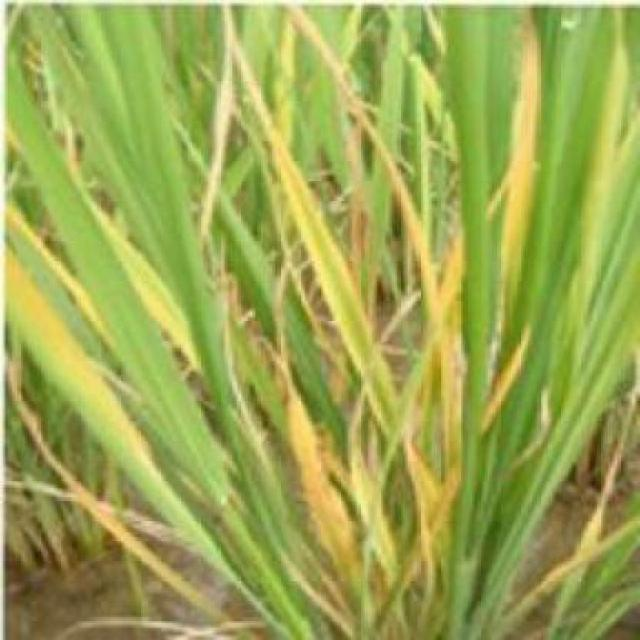Rice Tungro: (212, 35, 431, 510), (382, 140, 475, 531), (477, 2, 575, 293), (2, 227, 121, 465), (58, 168, 190, 372), (262, 340, 353, 563), (477, 317, 535, 435)
